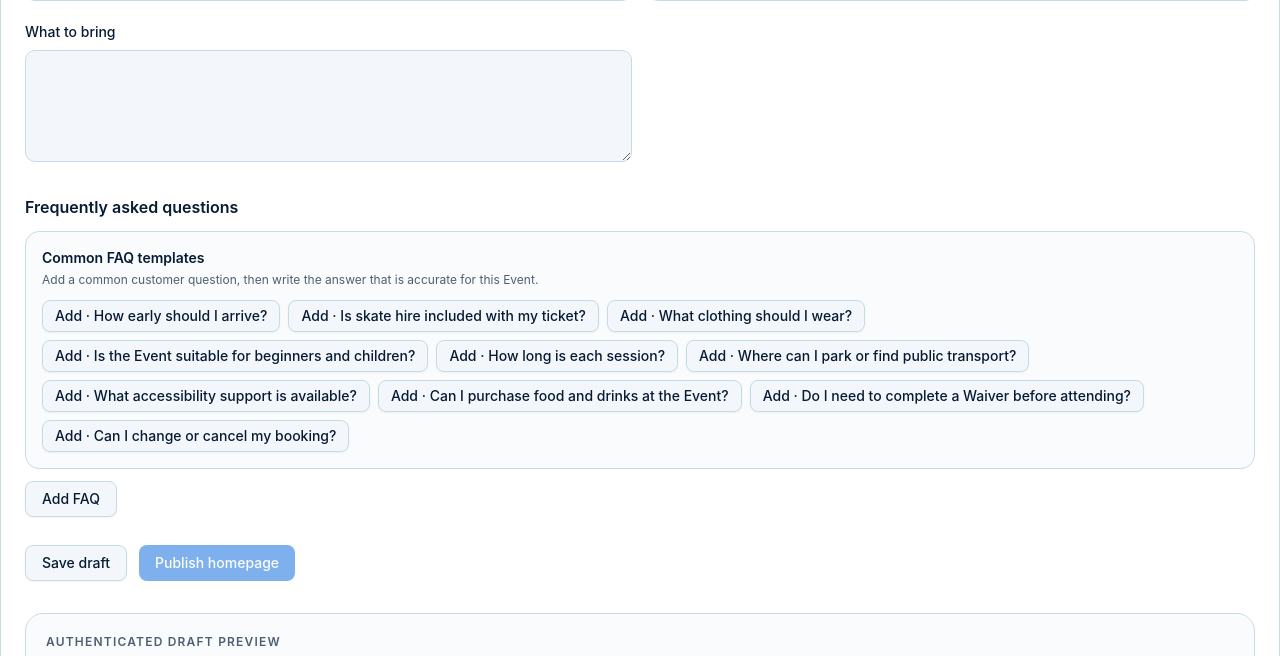
EventSiteContentWorkspace › adds a common FAQ question but requires an Event-specific answer
(page scrolled)
What coordinates should you click on to do the following:
click the button "Add · How early should I arrive?"
I would click on:
 (161, 316)
Its box is [42,300,280,332].
(page scrolled)
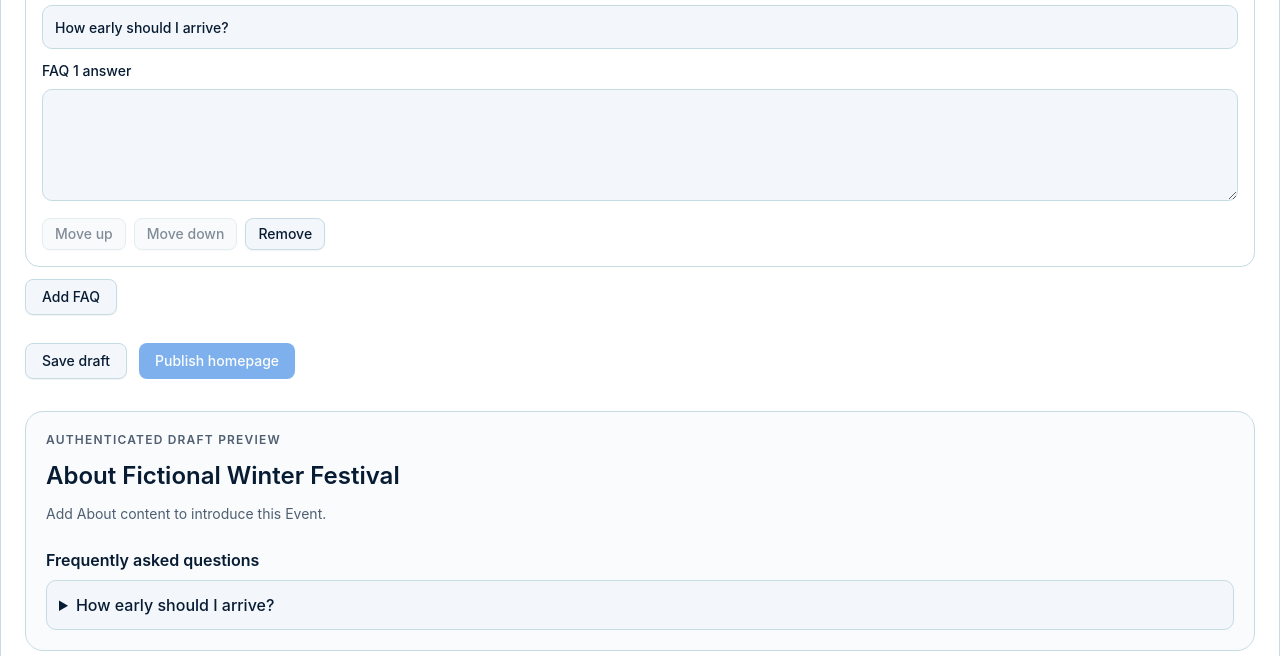
Check: the field labelled "FAQ 1 question" holds "How early should I arrive?", box [42,5,1238,49]
Check: the text box labelled "FAQ 1 answer" is empty, box [42,89,1238,201]
What coordinates should you click on to do the following:
click the button "Save draft"
I would click on:
 (76, 361)
Its box is [25,343,127,379].
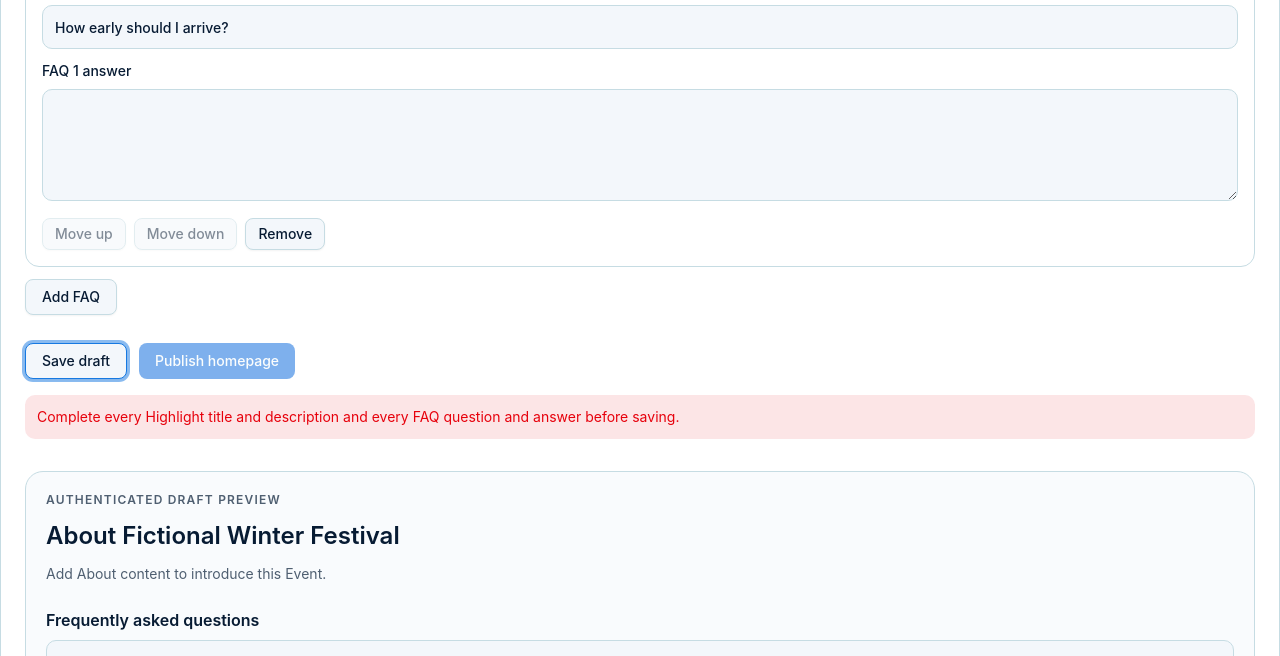
Check: the message shows "every FAQ question and answer", box [37,408,679,425]
